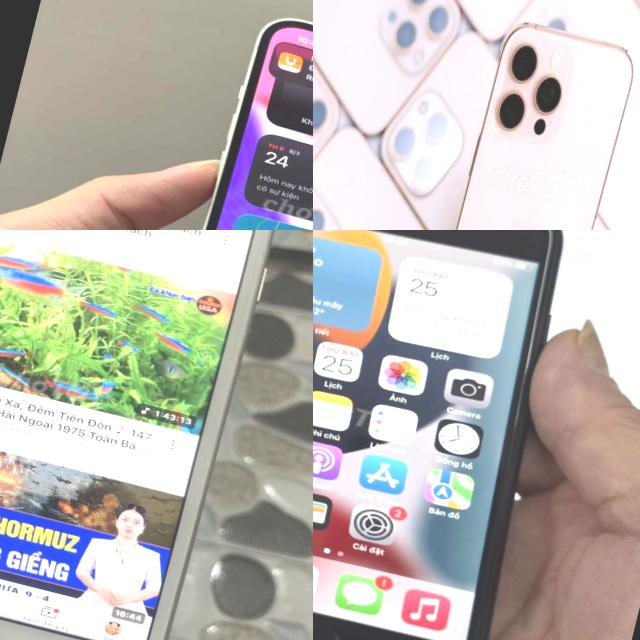gen_12_13: (142, 1, 313, 230)
gen_16: (406, 9, 640, 230)
gen_7_8: (0, 230, 309, 640), (313, 230, 607, 640)
